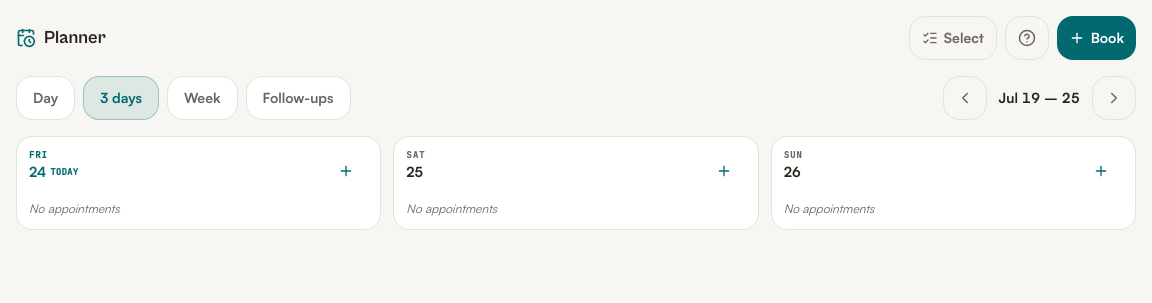
Test: AgentPlannerPanel — week navigation on the DESKTOP board › the week nav is hidden on Follow-ups (not a week-scoped view)
Expected: the element with test id "planner-desktop-board" is shown, left=16, top=76, right=1136, bottom=230
Click the tab with test id "planner-span-followups". click: click(298, 98)
box: left=246, top=76, right=350, bottom=120
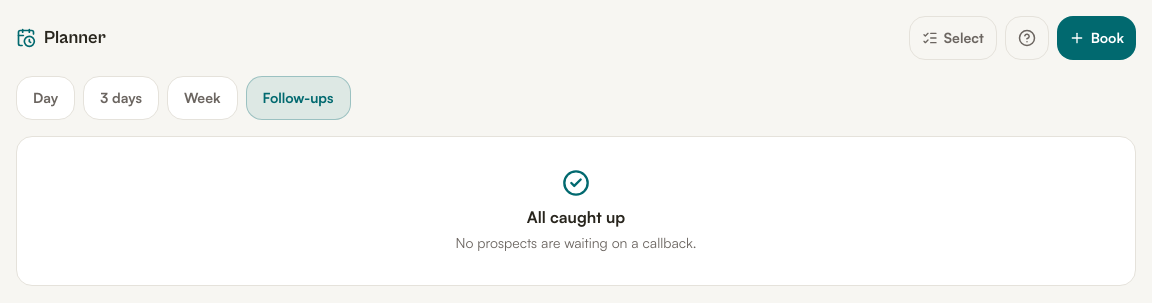
Now the element with test id "planner-week-nav" is gone
